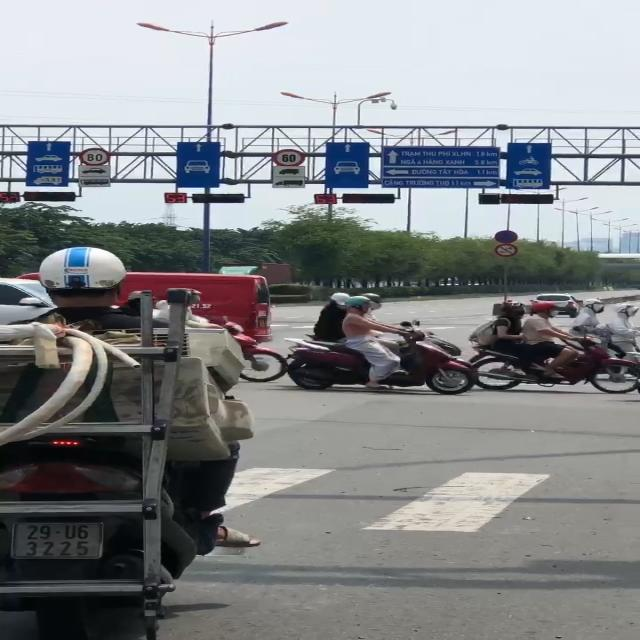Bien bao toc do toi da cho phep: (267, 148, 310, 168)
